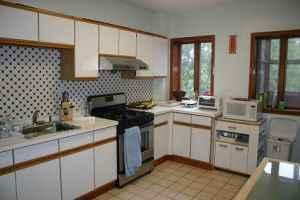Electrodomestico: (118, 119, 155, 180)
Lavaplatos: (18, 108, 82, 144)
